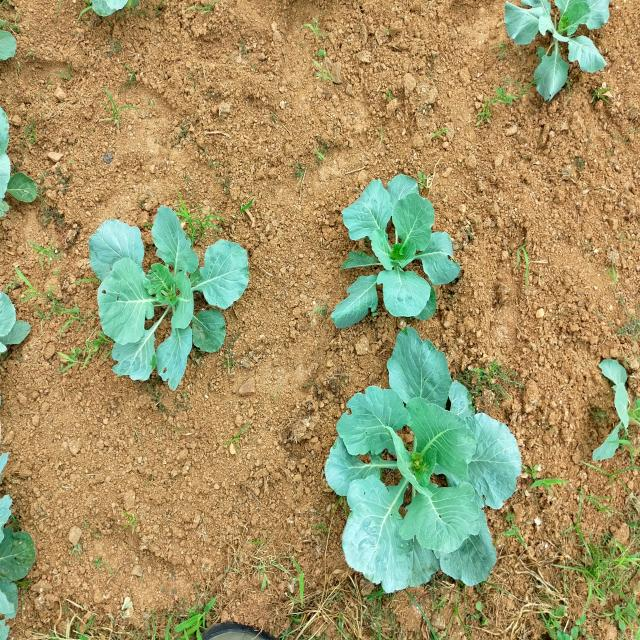Cabbage: (320, 336, 549, 592), (74, 200, 262, 402), (314, 160, 499, 348), (505, 0, 621, 102), (585, 342, 640, 468), (0, 279, 35, 375)
